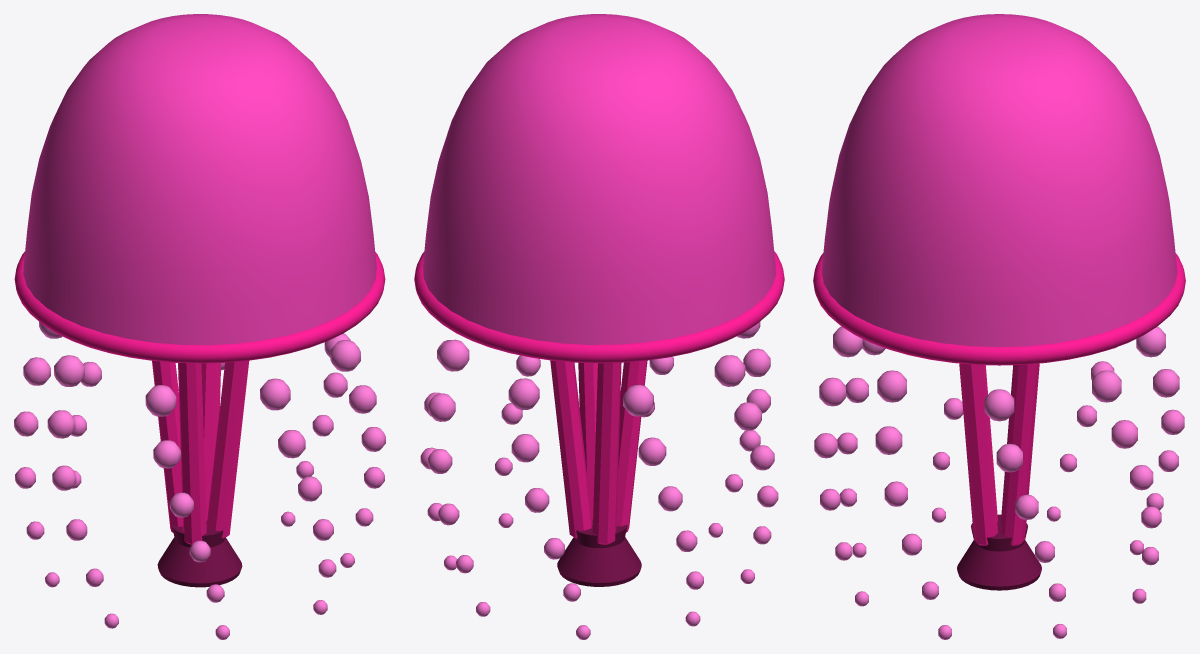
File: Rocket_26_Jellyfish.obj
The picture shows the model from 3 angles, left to right: view 1: azimuth 30°, elevation 25°; view 2: azimuth 150°, elevation 25°; view 3: azimuth 270°, elevation 25°; orthographic projection.
Visible parts, largest first — view 1: R26_Bell, R26_BellRim, R26_Oral_4, R26_Oral_3, R26_Nozzle, R26_Oral_2, R26_Oral, R26_Tentacle_31, R26_Tentacle_37, R26_Tentacle_25, R26_Tentacle_43, R26_Tentacle_26 (+4 smaller); view 2: R26_Bell, R26_BellRim, R26_Oral_2, R26_Oral, R26_Nozzle, R26_Oral_3, R26_Oral_4, R26_Tentacle_13, R26_Tentacle_25, R26_Tentacle_7, R26_Tentacle_19, R26_Tentacle_14 (+4 smaller); view 3: R26_Bell, R26_BellRim, R26_Oral_4, R26_Oral, R26_Nozzle, R26_Tentacle, R26_Tentacle_7, R26_Tentacle_43, R26_Tentacle_13, R26_Tentacle_37, R26_Tentacle_44, R26_Tentacle_2 (+3 smaller).
Part boxes in pixels (bbox=[...]): R26_Bell: bbox=[23, 14, 376, 345]; R26_BellRim: bbox=[14, 251, 385, 363]; R26_Oral_4: bbox=[207, 360, 249, 538]; R26_Oral_3: bbox=[178, 363, 206, 544]; R26_Nozzle: bbox=[157, 521, 242, 587]; R26_Oral_2: bbox=[152, 361, 182, 532]; R26_Oral: bbox=[201, 363, 221, 520]; R26_Tentacle_31: bbox=[145, 385, 176, 416]; R26_Tentacle_37: bbox=[260, 378, 290, 410]; R26_Tentacle_25: bbox=[54, 355, 84, 386]; R26_Tentacle_43: bbox=[330, 340, 360, 371]; R26_Tentacle_26: bbox=[47, 410, 75, 438]; R26_Bell: bbox=[423, 14, 775, 344]; R26_BellRim: bbox=[414, 251, 784, 363]; R26_Oral_2: bbox=[592, 362, 621, 544]; R26_Oral: bbox=[550, 360, 592, 538]; R26_Nozzle: bbox=[557, 520, 641, 586]; R26_Oral_3: bbox=[616, 360, 647, 532]; R26_Oral_4: bbox=[578, 362, 597, 520]; R26_Tentacle_13: bbox=[508, 378, 539, 410]; R26_Tentacle_25: bbox=[714, 355, 745, 386]; R26_Tentacle_7: bbox=[438, 339, 469, 371]; R26_Tentacle_19: bbox=[623, 384, 653, 416]; R26_Tentacle_14: bbox=[511, 434, 539, 462]; R26_Bell: bbox=[821, 14, 1177, 347]; R26_BellRim: bbox=[813, 253, 1185, 365]; R26_Oral_4: bbox=[959, 363, 997, 545]; R26_Oral: bbox=[1001, 363, 1039, 545]; R26_Nozzle: bbox=[957, 514, 1041, 590]; R26_Tentacle: bbox=[984, 389, 1014, 421]; R26_Tentacle_7: bbox=[1092, 370, 1121, 402]; R26_Tentacle_43: bbox=[877, 370, 906, 402]; R26_Tentacle_13: bbox=[1136, 326, 1165, 357]; R26_Tentacle_37: bbox=[833, 326, 862, 357]; R26_Tentacle_44: bbox=[875, 426, 902, 454]; R26_Tentacle_2: bbox=[996, 443, 1022, 472].
Size of the model in its own units: 3.64 by 5.88 by 3.64.
